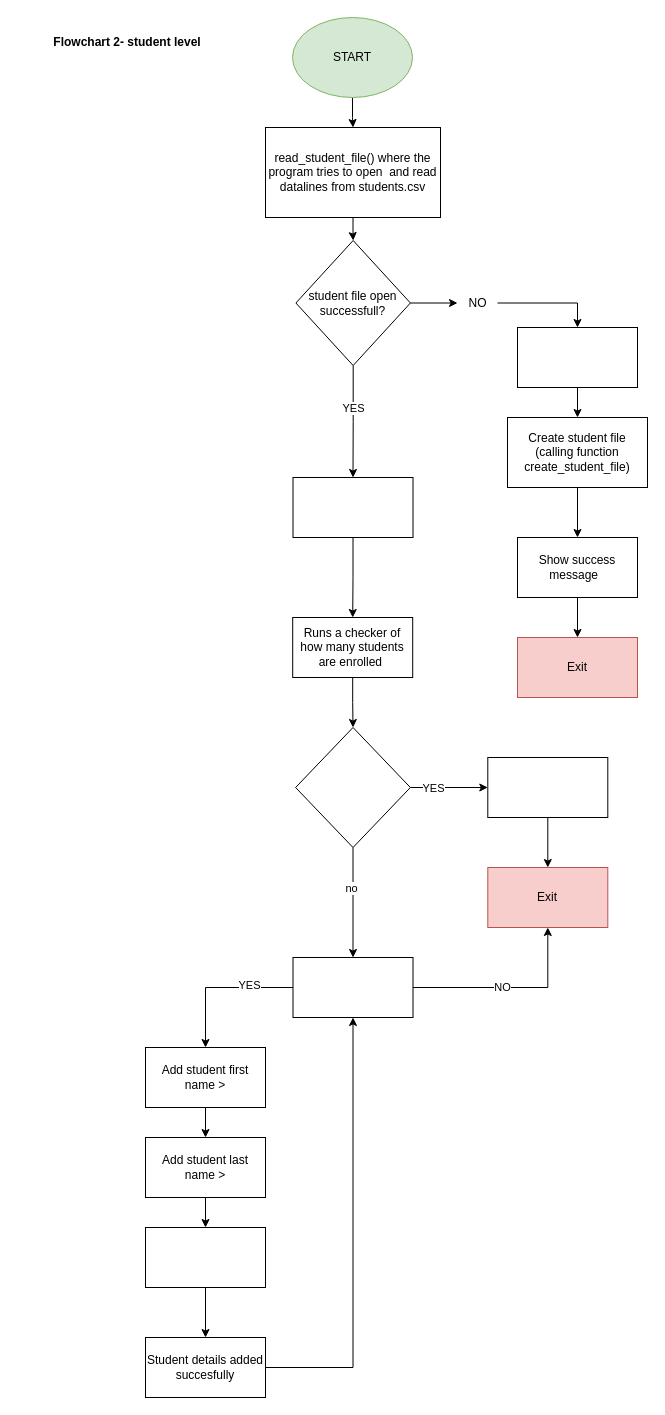
This 665x1415 diagram has some shape labels left out. Each missing label, with the centre of its shape:
"Add student age >" belongs at (x=205, y=1257).
"Do you want to add a student [y/n]?" belongs at (x=352, y=987).
"Is there 8 or more students?" belongs at (x=352, y=787).
"Print error that maximum students are enrolled" belongs at (x=547, y=787).
"Read lines into variable and display students into console" belongs at (x=352, y=507).
"Show error in console" belongs at (x=577, y=357).
